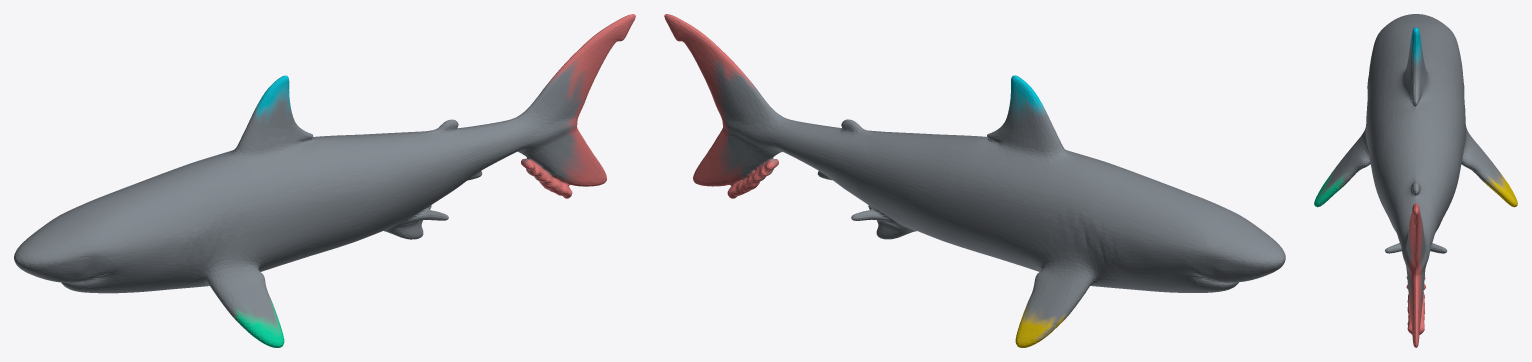
The model's file is 01_segmented_mesh.glb.
3 renders of one model, left to right at view 1: azimuth 30°, elevation 25°; view 2: azimuth 150°, elevation 25°; view 3: azimuth 270°, elevation 25°, orthographic. The views are drawn at different scales.
Visible parts, largest first — view 1: world; view 2: world; view 3: world.
Part boxes in pixels (box(x1,y1,x2,y2)): world: box(14, 14, 635, 347); world: box(664, 14, 1285, 347); world: box(1314, 14, 1517, 347).
Size of the model in its own units: 1.83 by 0.6185 by 0.5568.
